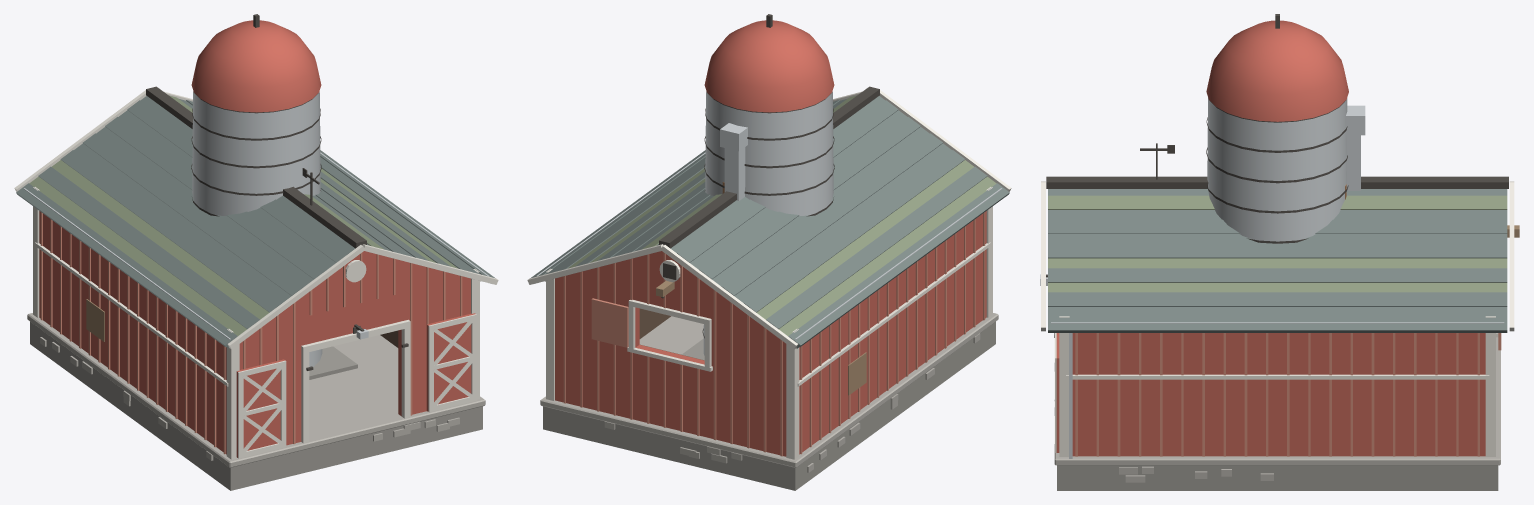
The model's file is farm_barn.glb.
3 renders of one model, left to right at view 1: azimuth 30°, elevation 25°; view 2: azimuth 150°, elevation 25°; view 3: azimuth 270°, elevation 25°, orthographic. The views are drawn at different scales.
Parts seen in each view (by area): view 1: fb_barn_mesh, fb_silo_mesh; view 2: fb_barn_mesh, fb_silo_mesh; view 3: fb_barn_mesh, fb_silo_mesh.
Boxes of the visible parts, left/top/right/bottom form: fb_barn_mesh: left=14, top=86, right=498, bottom=490; fb_silo_mesh: left=191, top=14, right=357, bottom=379; fb_barn_mesh: left=527, top=86, right=1011, bottom=490; fb_silo_mesh: left=682, top=14, right=834, bottom=360; fb_barn_mesh: left=1040, top=143, right=1519, bottom=490; fb_silo_mesh: left=1206, top=14, right=1365, bottom=243.
Size of the model in its own units: 11.41 by 14.9 by 15.85.
